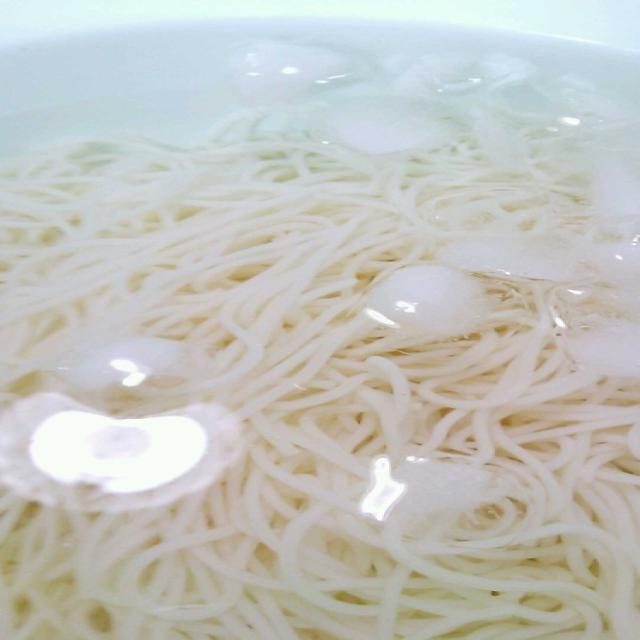面条主食: (5, 29, 621, 628)
